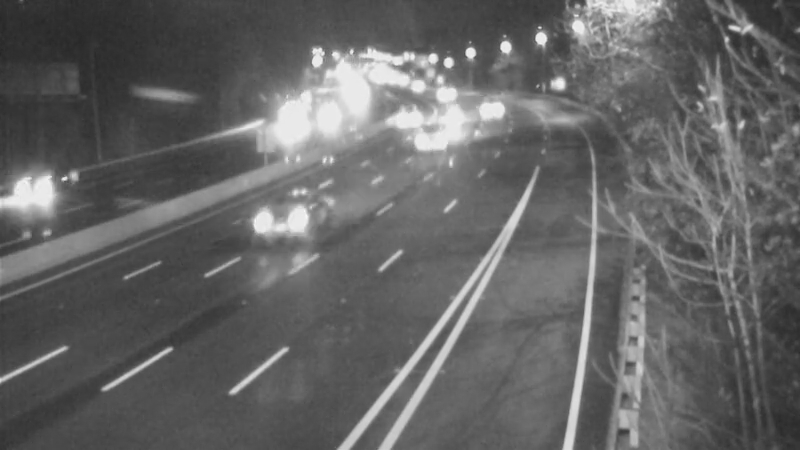vehicle: (249, 195, 329, 275), (1, 147, 78, 227), (418, 63, 468, 113), (465, 82, 515, 132), (418, 91, 468, 141), (377, 94, 427, 144), (409, 112, 459, 162)
